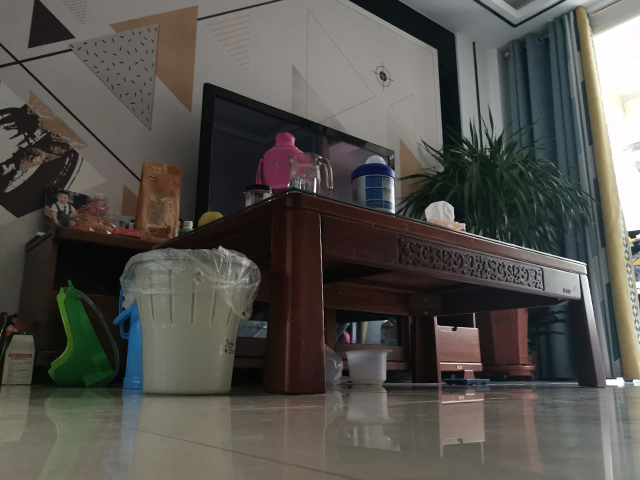curtain: (503, 4, 639, 383)
table: (146, 188, 609, 399)
trashcan: (121, 244, 255, 400)
